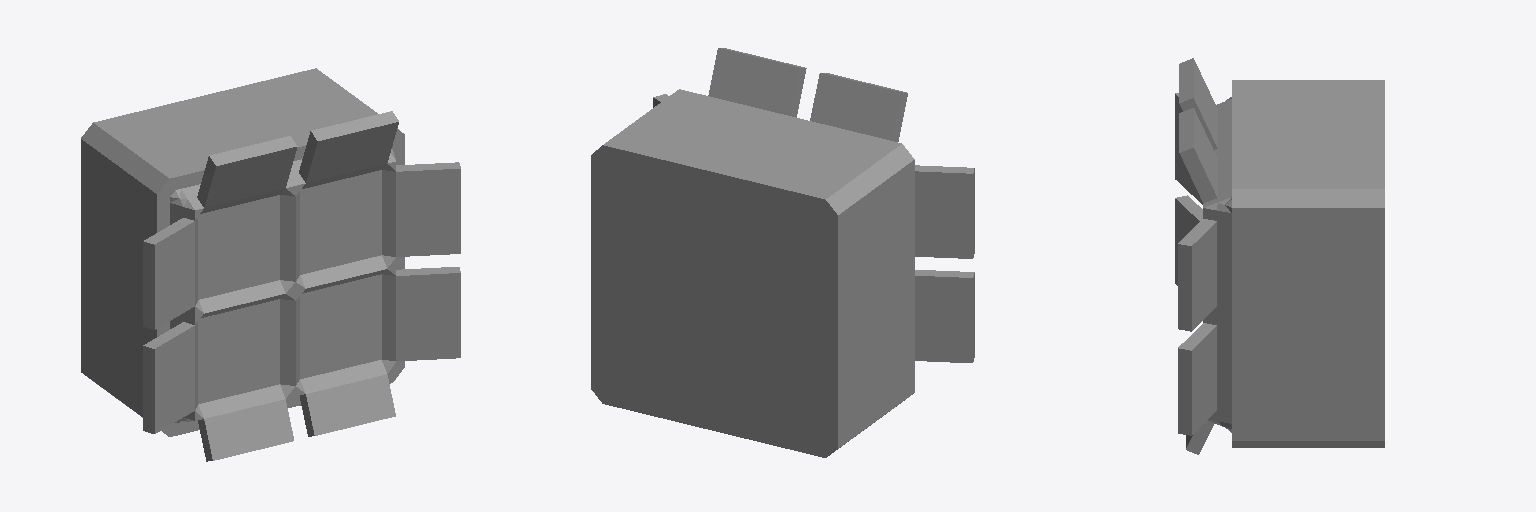
The model's file is field_lights.obj.
The picture shows the model from 3 angles: view 1: azimuth 30°, elevation 25°; view 2: azimuth 150°, elevation 25°; view 3: azimuth 270°, elevation 25°; orthographic projection.
Parts seen in each view (by area): view 1: Cube_Cube.007; view 2: Cube_Cube.007; view 3: Cube_Cube.007.
Boxes of the visible parts, <box> form: Cube_Cube.007: <box>81,68,460,461</box>; Cube_Cube.007: <box>591,48,974,457</box>; Cube_Cube.007: <box>1175,58,1384,454</box>.
Size of the model in its own units: 2.57 by 2.38 by 1.47.